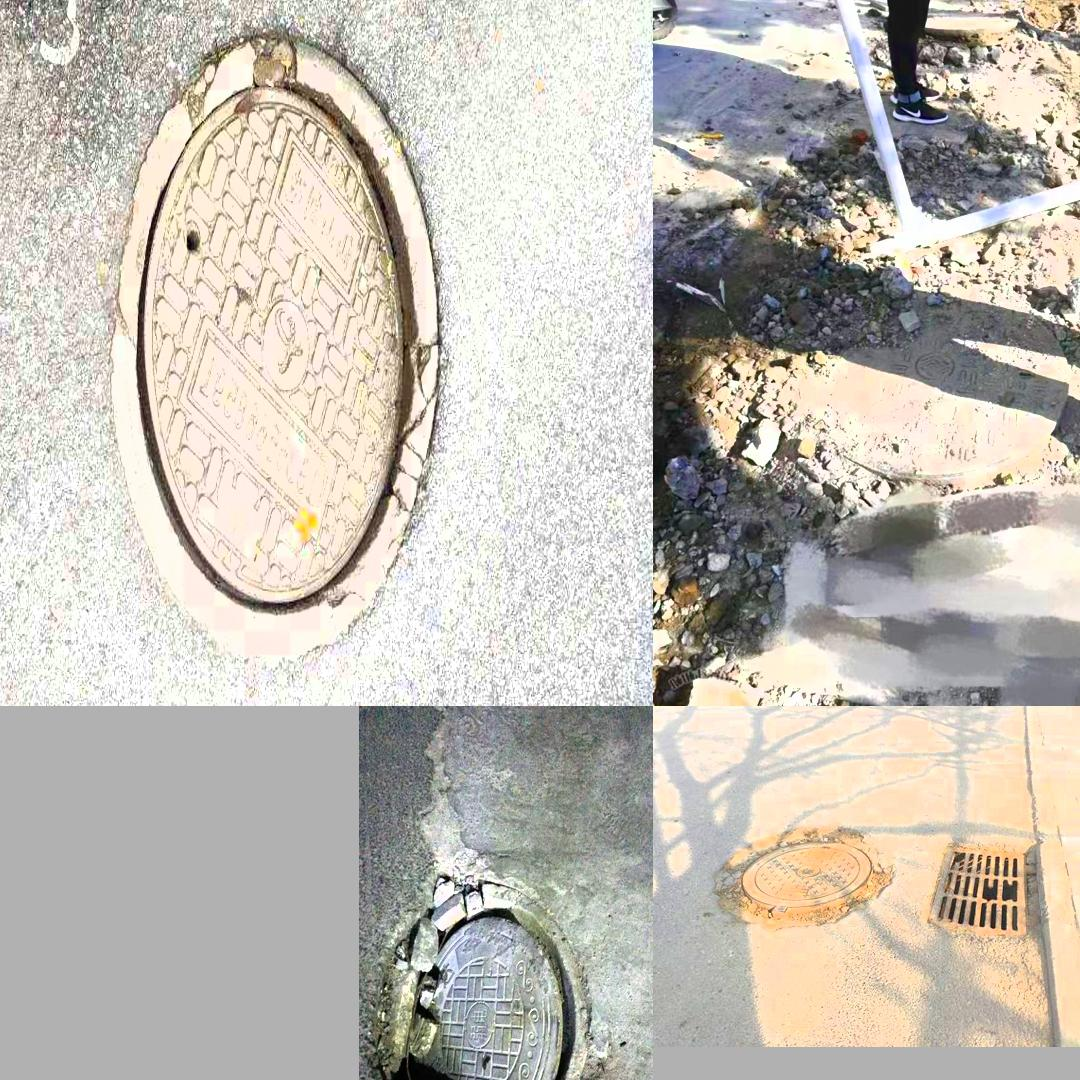circle: (83, 20, 497, 678), (746, 283, 1080, 521), (367, 880, 598, 1080), (713, 816, 899, 935)
